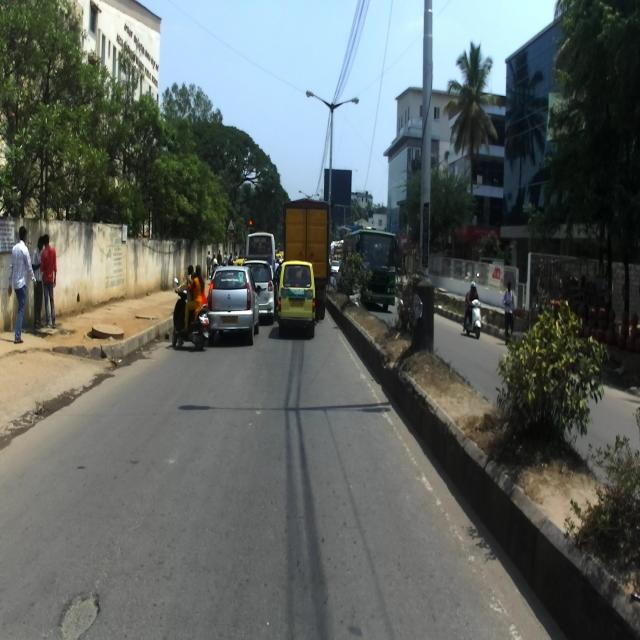Car_Maruti-Suzuki: (277, 258, 316, 337), (243, 260, 275, 322)
Car_TATA: (206, 264, 262, 346)
bus: (338, 225, 396, 311)
scooter: (172, 275, 210, 353), (463, 298, 482, 338)
